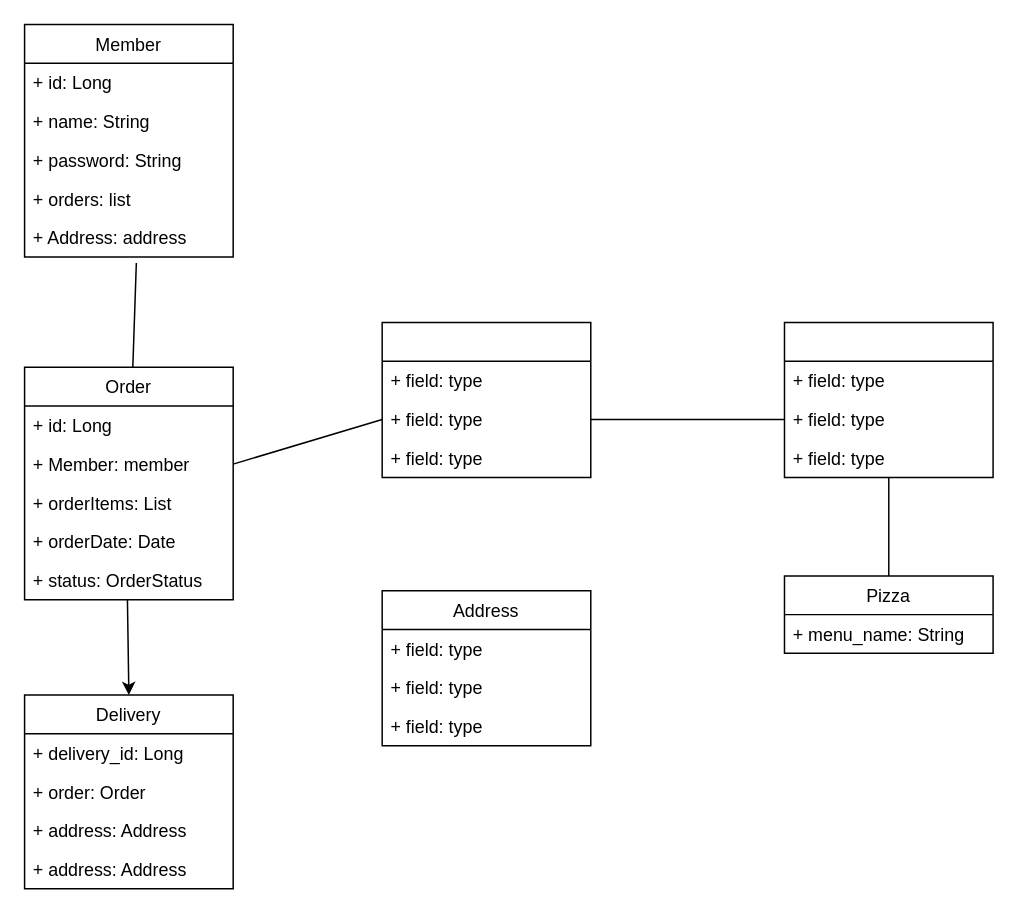
Image size: 1018x913. Some labels were removed from this diagram. The shapes that lost their labels are listed below. From the top down, each one's box as (x1, y1, x2, y2) in pixels, then its label:
(381, 321, 591, 478): OrderItem
(783, 321, 993, 478): Item
